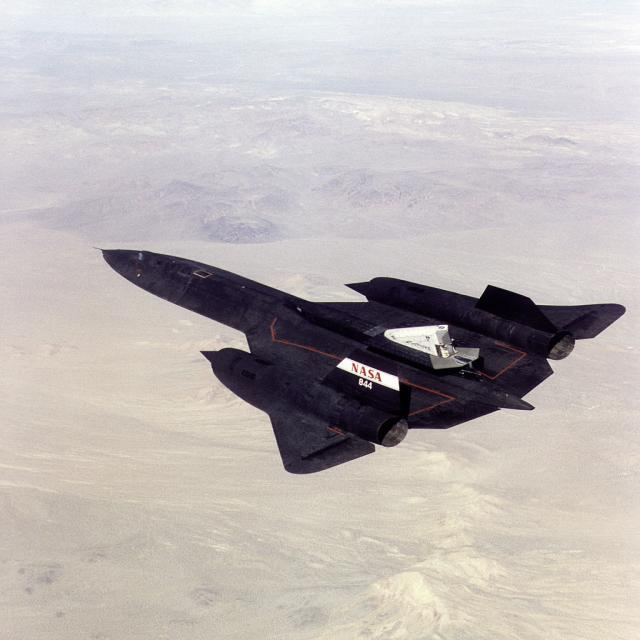MIL_Plane: (92, 246, 626, 474)
